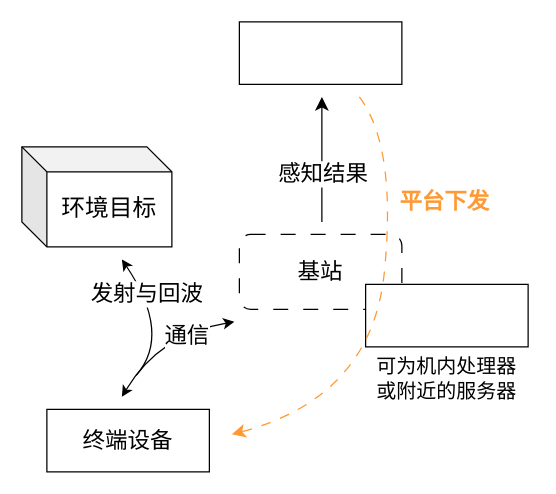
Some shapes in this 556 by 494 pixel diagram are drawn without their labels. Here are the shapes that lost their labels. From the top down, the centre of each, then its label:
At (320,52): "管理平台".
At (446,315): "数据处理平台".
